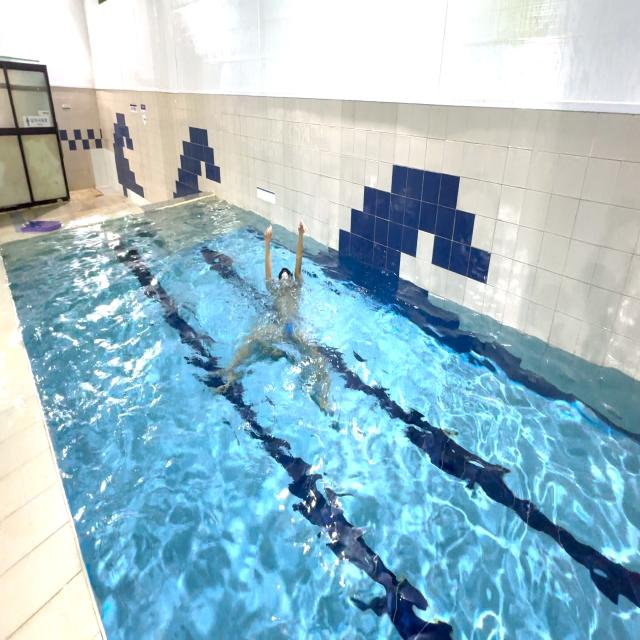Drowning: (224, 211, 346, 393)
